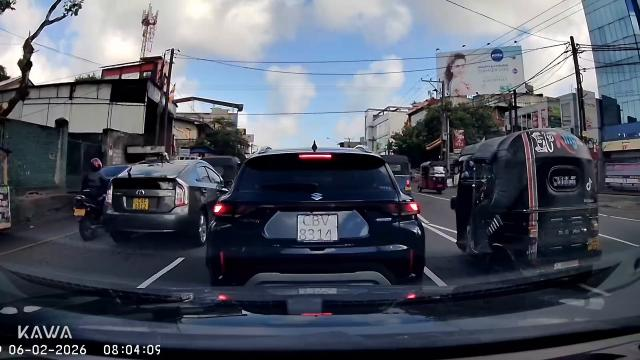illegal overtaking: (449, 125, 611, 283)
number plate: (584, 235, 606, 254)
